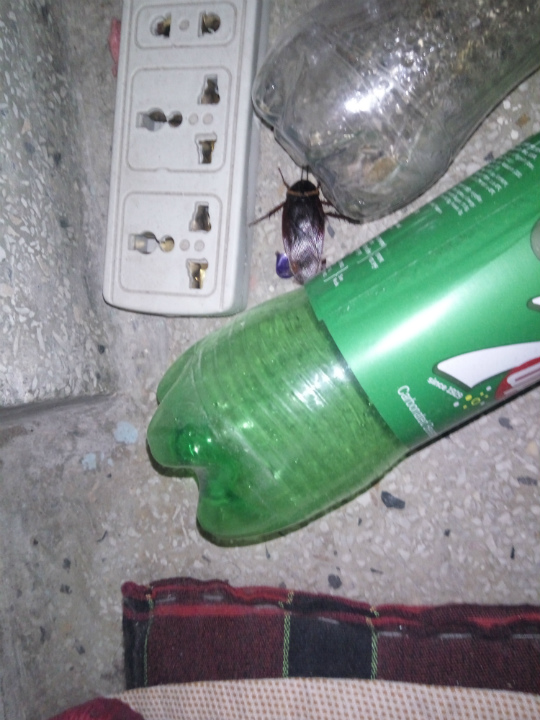cockroach: (232, 175, 368, 281)
